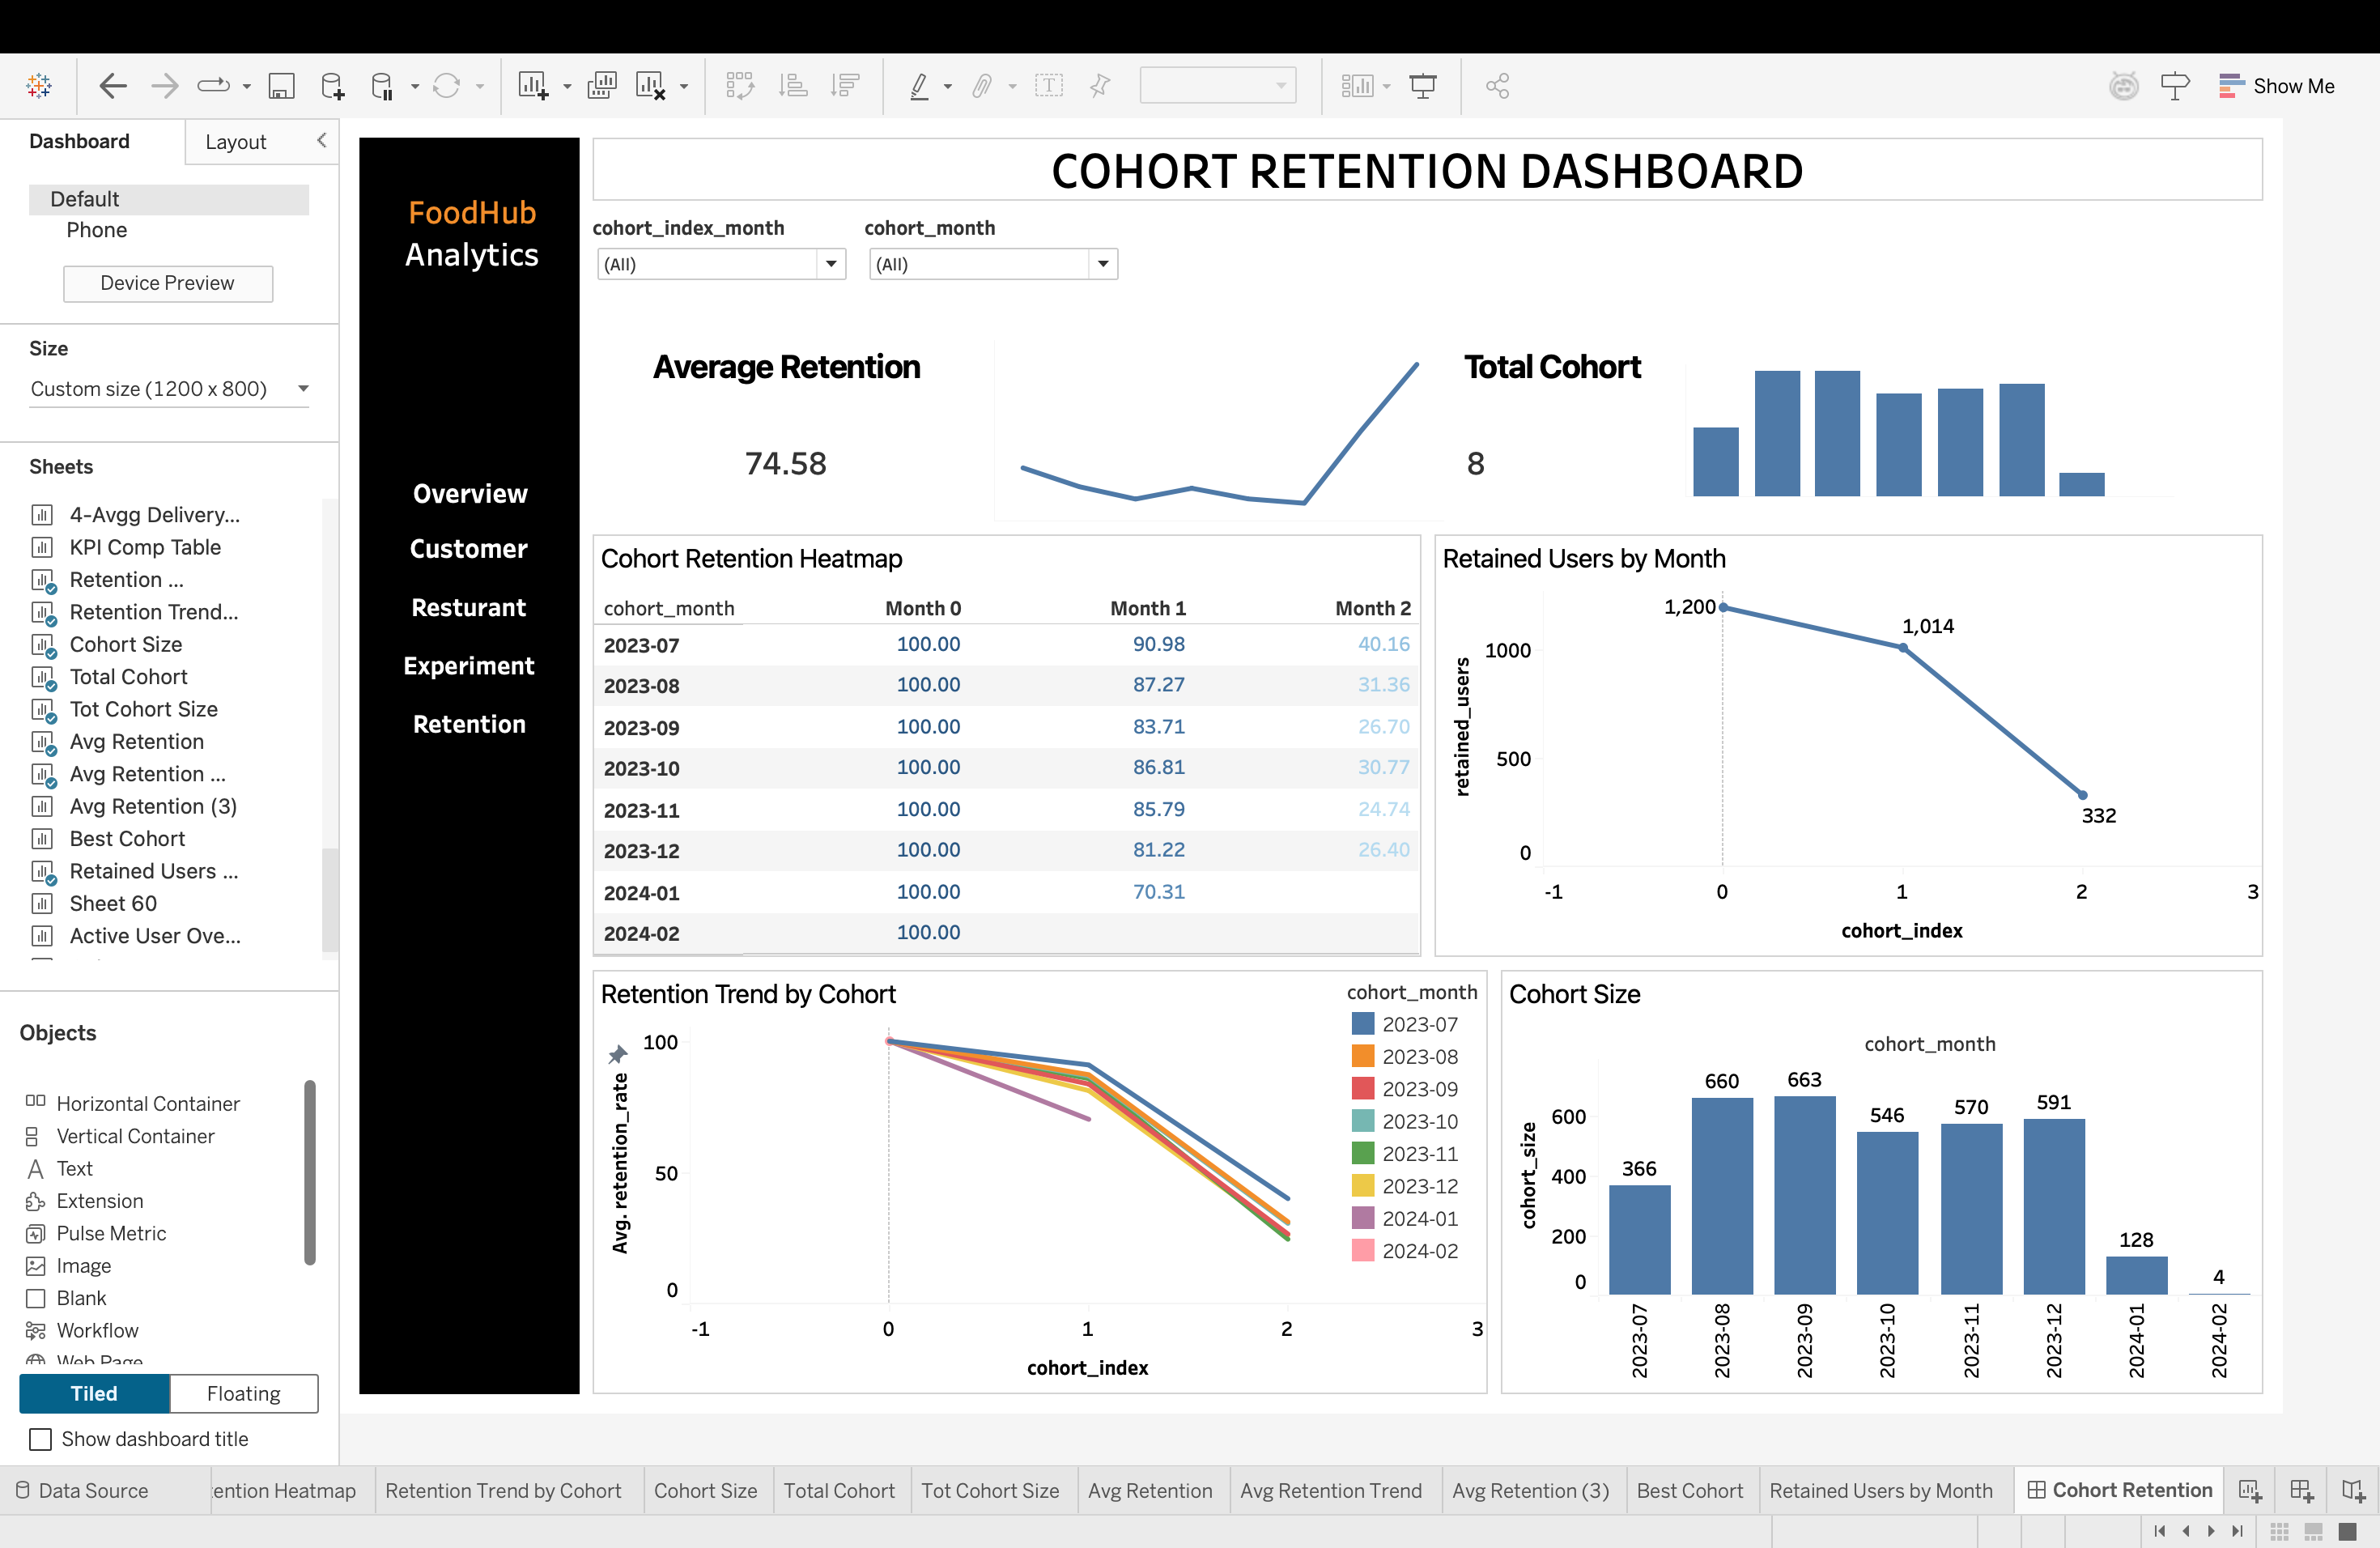

The page's visual inventory and layout, read from the dashboard file:
{"tool":"tableau","page":{"name":"Cohort Retention","canvas":[1200,800],"ordinal":1},"visuals":[{"type":"blank","box":[8,8,144.4,784]},{"type":"text","box":[152.4,8,1039.6,47]},{"type":"text","box":[16.8,14,129.6,112]},{"type":"filter","title":"Retention Heatmap","param":"[federated.17vwm6f052w31h13akm811cujpw3].[none:Calculation_0031087897747456:nk]","box":[152.4,55,168,78]},{"type":"filter","title":"Retention Heatmap","param":"[federated.17vwm6f052w31h13akm811cujpw3].[none:cohort_month:nk]","box":[320.4,55,168,78]},{"type":"worksheet","title":"Avg Retention","mark":"Automatic","box":[152.4,133,248,120]},{"type":"worksheet","title":"Avg Retention Trend","mark":"Line","rows":["retention_rate"],"cols":["cohort_month"],"box":[400.4,133,286,120]},{"type":"worksheet","title":"Total Cohort","mark":"Automatic","rows":["cohort_month"],"box":[686.4,133,505.6,120]},{"type":"worksheet","title":"Tot Cohort Size","mark":"Automatic","rows":["cohort_size"],"cols":["cohort_month"],"box":[831,152,302,82]},{"type":"dashboard-object","box":[17,216,129,31]},{"type":"dashboard-object","box":[16,248,128,35]},{"type":"worksheet","title":"Retention Heatmap","mark":"Automatic","rows":["cohort_month"],"cols":["Calculation_0031087897747456"],"box":[152.4,253,519.8,269.5]},{"type":"worksheet","title":"Retained Users by Month","mark":"Automatic","rows":["retained_users"],"cols":["cohort_index"],"box":[672.2,253,519.8,269.5]},{"type":"dashboard-object","box":[15.6,284,128.4,35]},{"type":"dashboard-object","box":[15.6,320,128.4,35]},{"type":"dashboard-object","box":[15.6,356,128.4,35]},{"type":"worksheet","title":"Retention Trend by Cohort","mark":"Line","rows":["retention_rate"],"cols":["cohort_index"],"box":[152.4,522.5,561,269.5]},{"type":"worksheet","title":"Cohort Size","mark":"Automatic","rows":["cohort_size"],"cols":["cohort_month"],"box":[713.4,522.5,478.5,269.5]},{"type":"legend","title":"Retention Trend by Cohort","param":"[federated.17vwm6f052w31h13akm811cujpw3].[none:cohort_month:nk]","box":[622,531,140,178]}]}

Visuals, with their boxes on the page's 1200x800 design canvas (x1, y1, x2, y2). These are canvas units, not pixel positions in the 2380x1548 screenshot, which may show the page scaled, cropped or inside an application window:
blank: 8:8:152:792
text: 152:8:1192:55
text: 17:14:146:126
"Retention Heatmap" filter: 152:55:320:133
"Retention Heatmap" filter: 320:55:488:133
"Avg Retention" worksheet: 152:133:400:253
"Avg Retention Trend" worksheet (Line marks): 400:133:686:253
"Total Cohort" worksheet: 686:133:1192:253
"Tot Cohort Size" worksheet: 831:152:1133:234
dashboard-object: 17:216:146:247
dashboard-object: 16:248:144:283
"Retention Heatmap" worksheet: 152:253:672:522
"Retained Users by Month" worksheet: 672:253:1192:522
dashboard-object: 16:284:144:319
dashboard-object: 16:320:144:355
dashboard-object: 16:356:144:391
"Retention Trend by Cohort" worksheet (Line marks): 152:522:713:792
"Cohort Size" worksheet: 713:522:1192:792
"Retention Trend by Cohort" legend: 622:531:762:709
